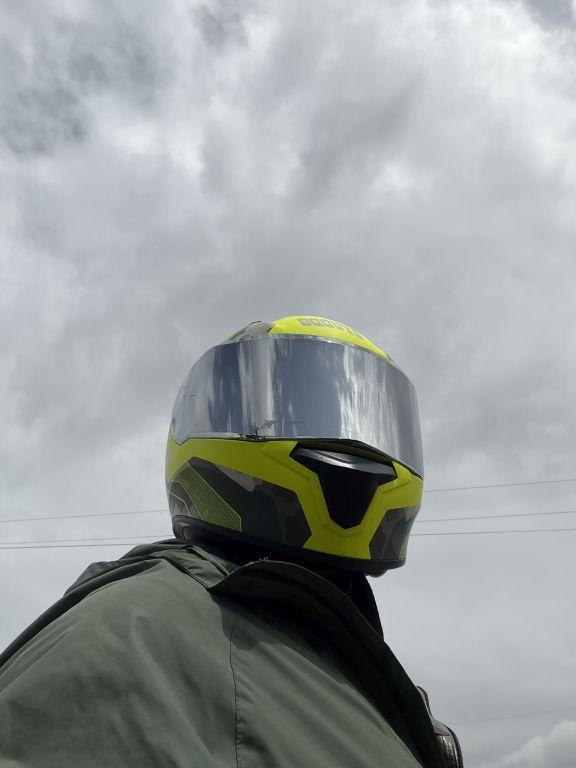helmet: (155, 300, 448, 590)
